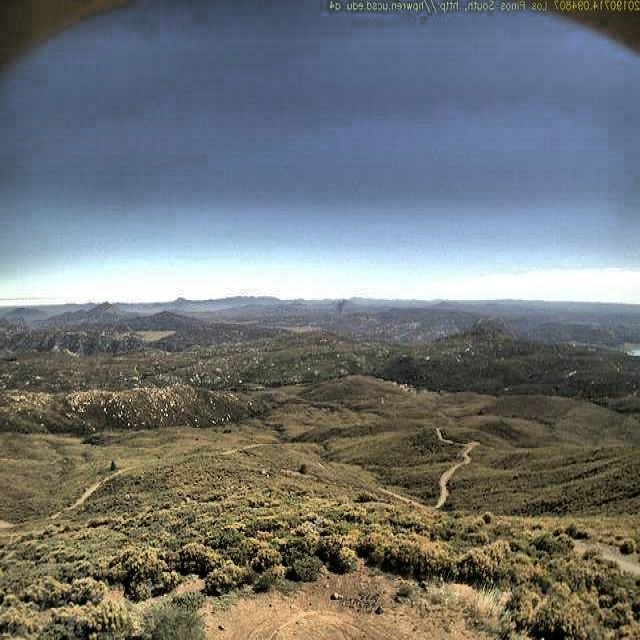smoke: (331, 291, 353, 320)
